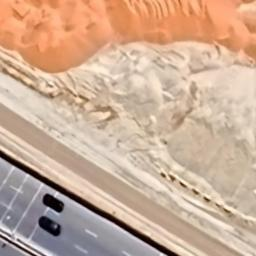sedan: (41, 190, 65, 216), (36, 215, 62, 238)
